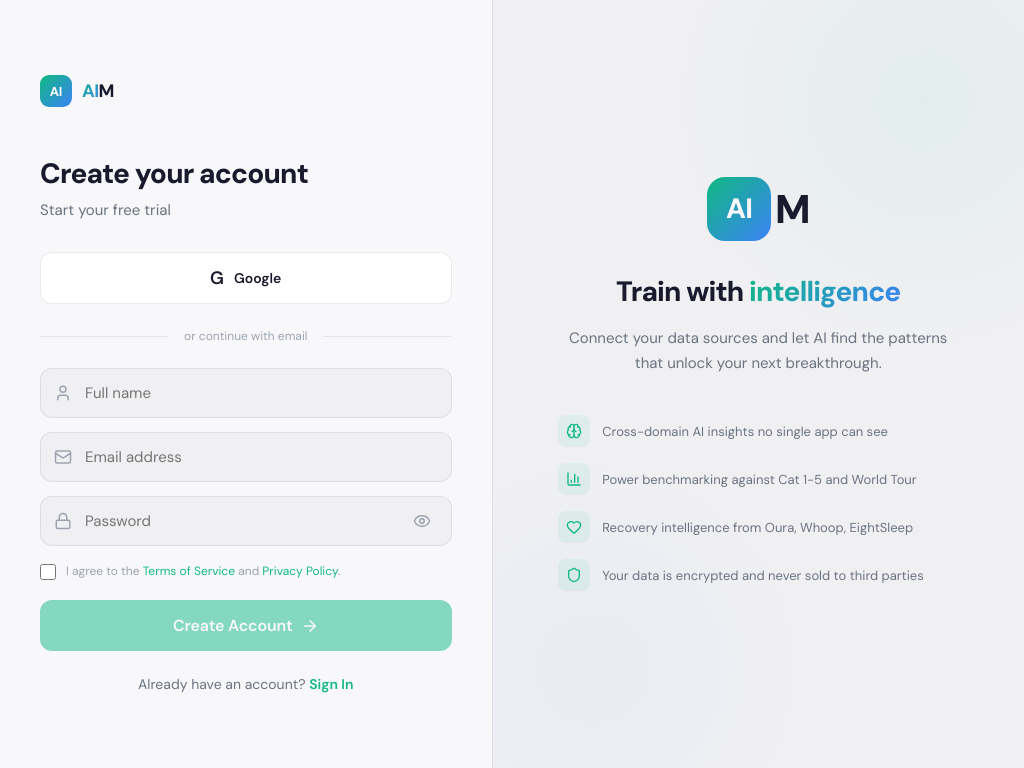
Test case: Auth page — signup mode › shows error when name is empty (terms accepted)
Click the checkbox.
click(48, 572)  # box [40,564,56,580]
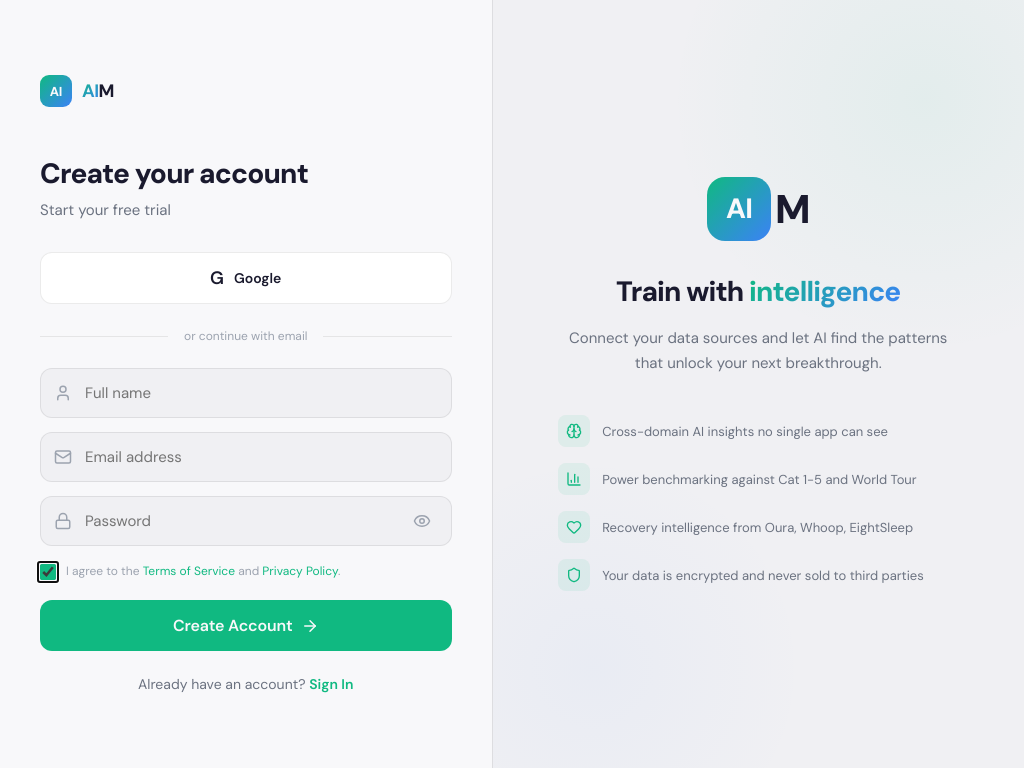
Click the button "Create Account".
click(246, 626)  # box [40,600,452,651]
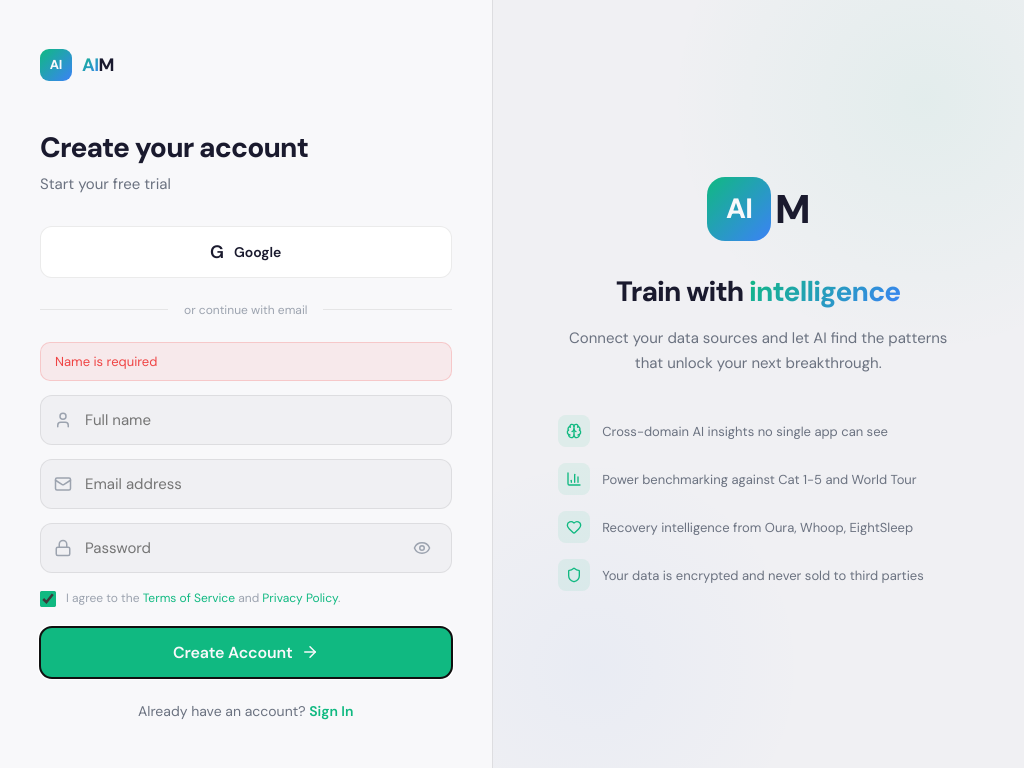
Expected: the text "Name is required" is shown, [40,342,452,380]
